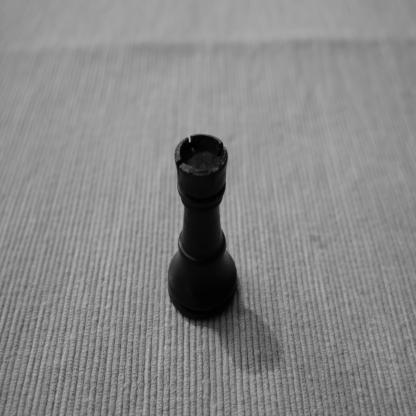black-rook: (167, 132, 238, 322)
